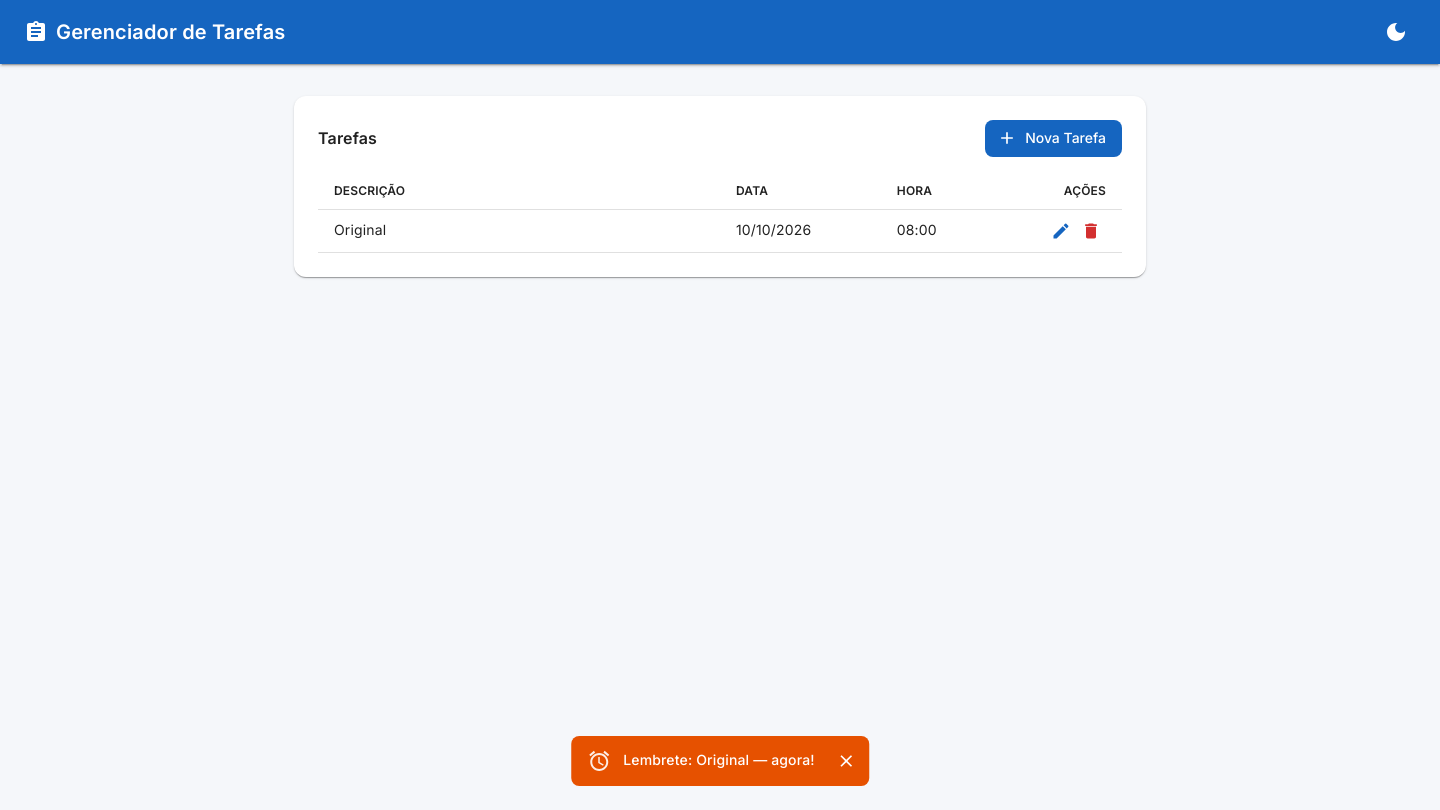
Scenario: App — integration › AC-4: edits a task; changes are saved to localStorage
Expected: the text "Original" is shown, top-left (334, 222), bottom-right (386, 238)
# Click edit button
Click the button named "editar tarefa" at (1061, 230), box top-left (1046, 216), bottom-right (1076, 246)
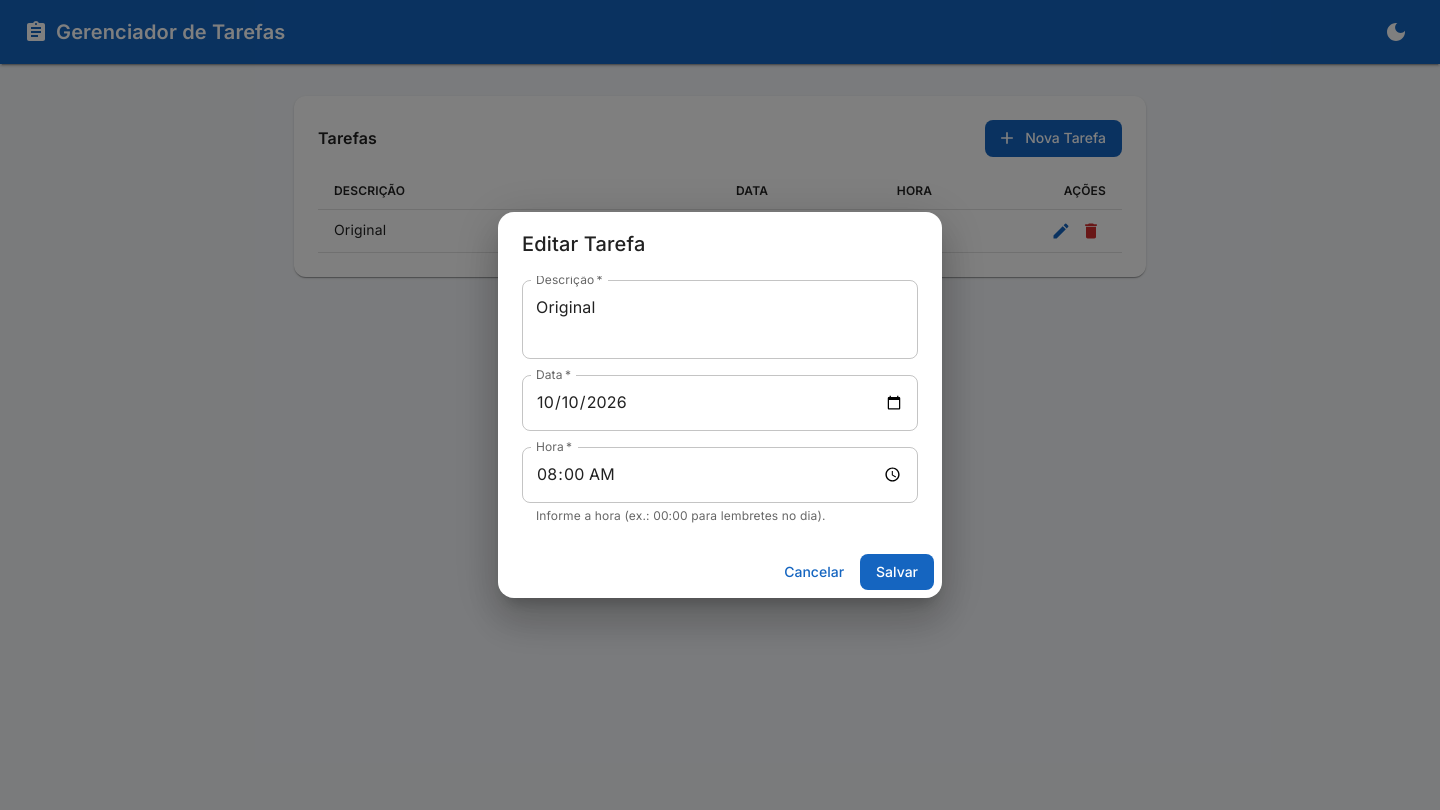
Now the dialog is shown, box top-left (498, 212), bottom-right (942, 598)
# Clear description and type new value
Replace the text in the text box showing "Original" with "Editada" at (720, 319), box top-left (536, 296), bottom-right (904, 342)
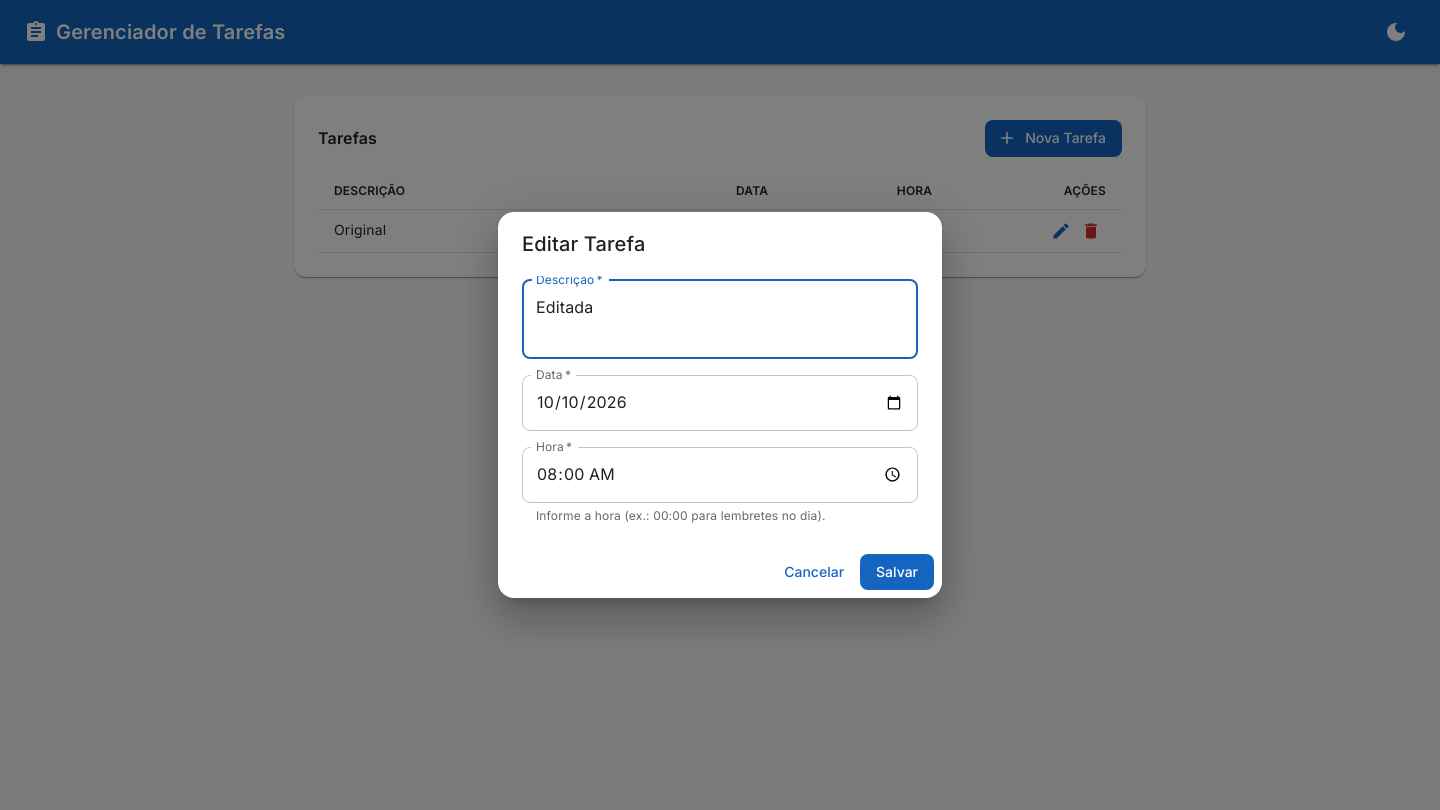
Click the button "Salvar" at (897, 572), box top-left (860, 554), bottom-right (934, 590)
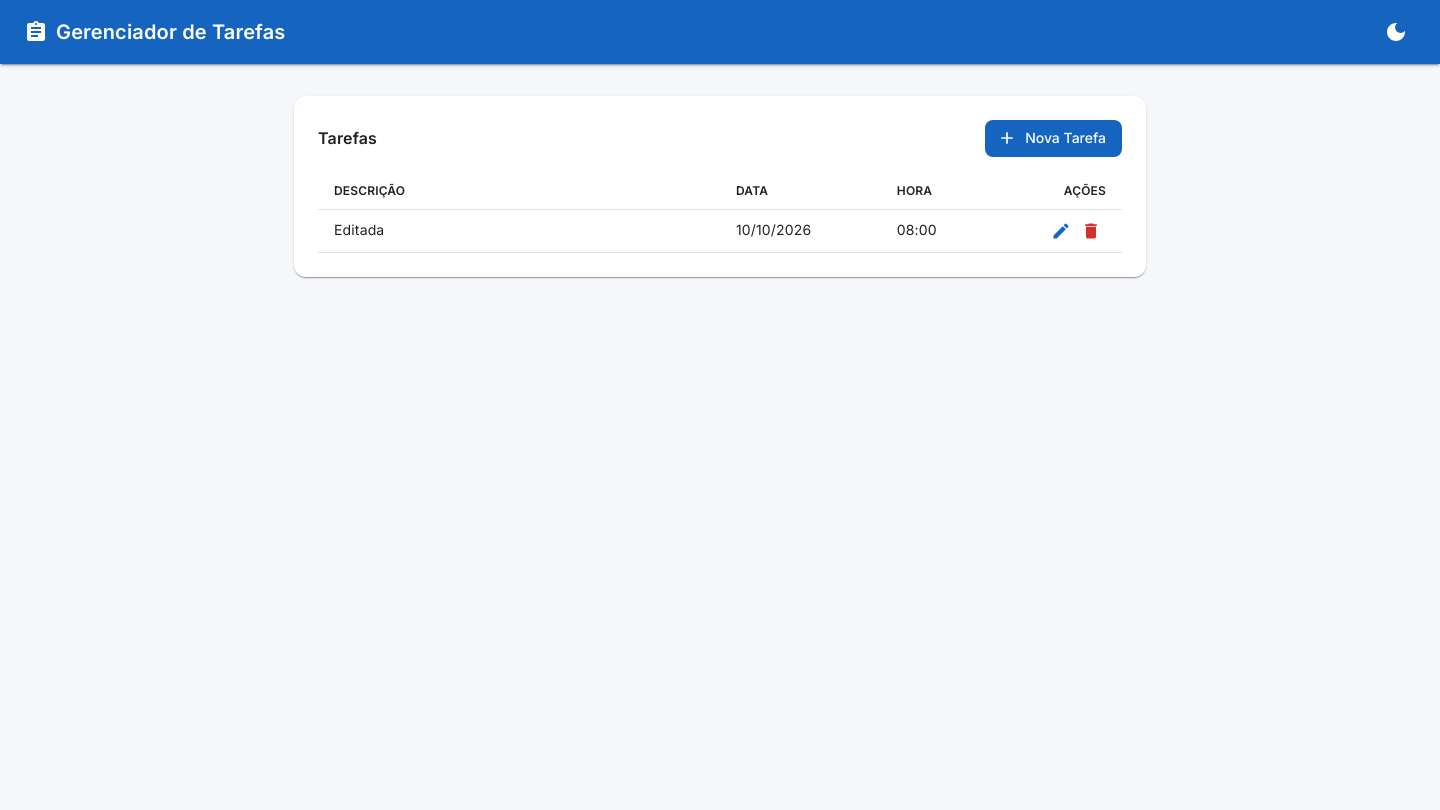
Now the text "Editada" is shown, box top-left (334, 222), bottom-right (384, 238)
